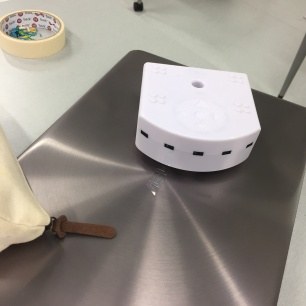thymio: (135, 57, 262, 182)
